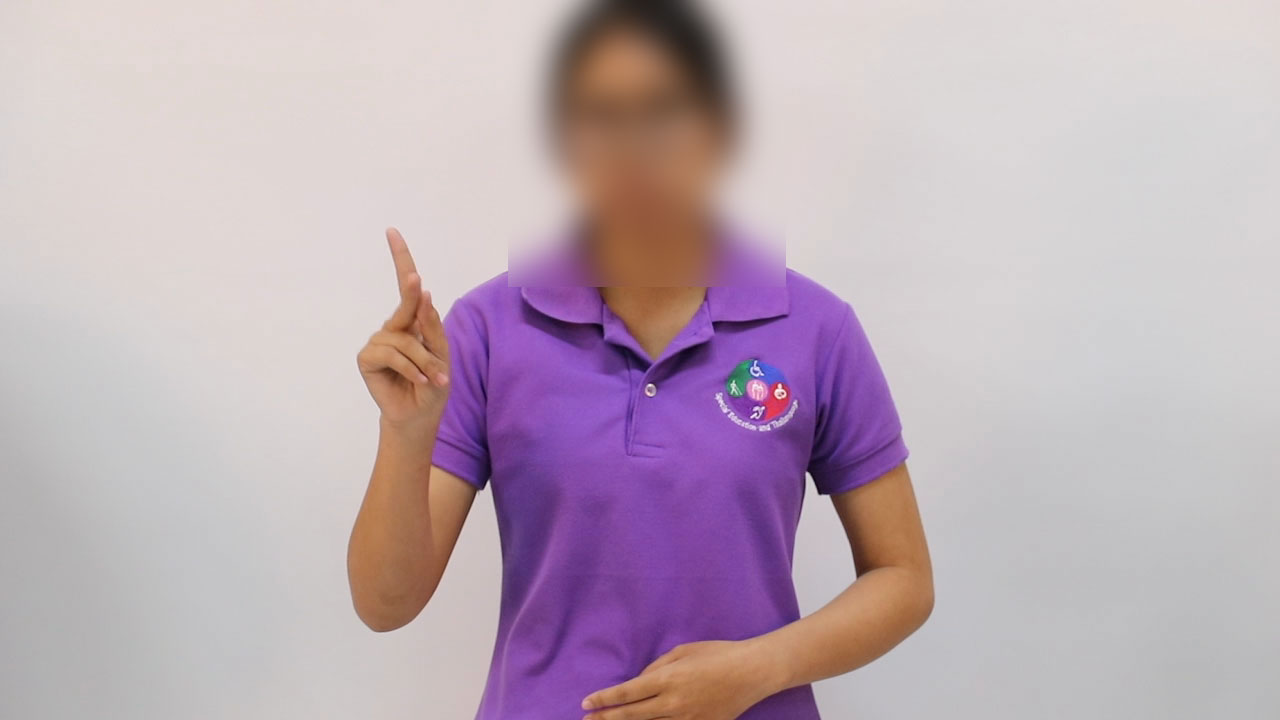ko: (338, 221, 467, 439)
